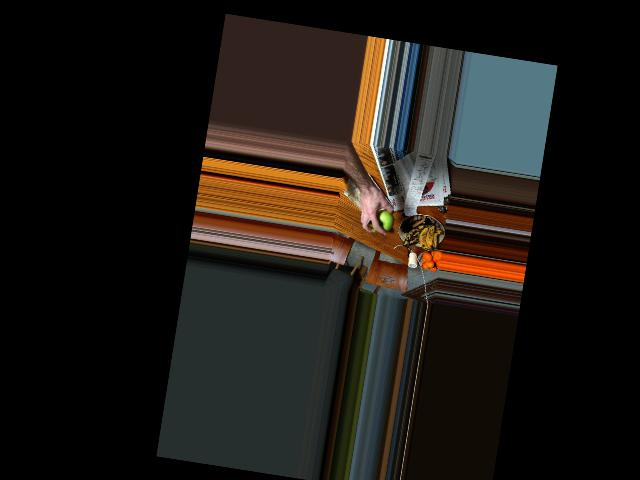apple: (373, 208, 393, 232)
